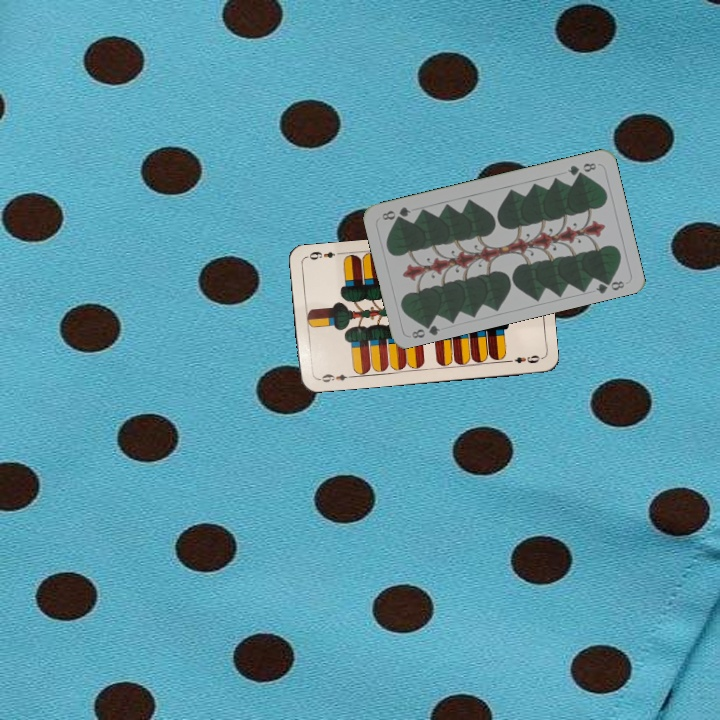E9: (314, 370, 355, 385)
G8: (408, 317, 443, 341), (563, 159, 599, 178)
